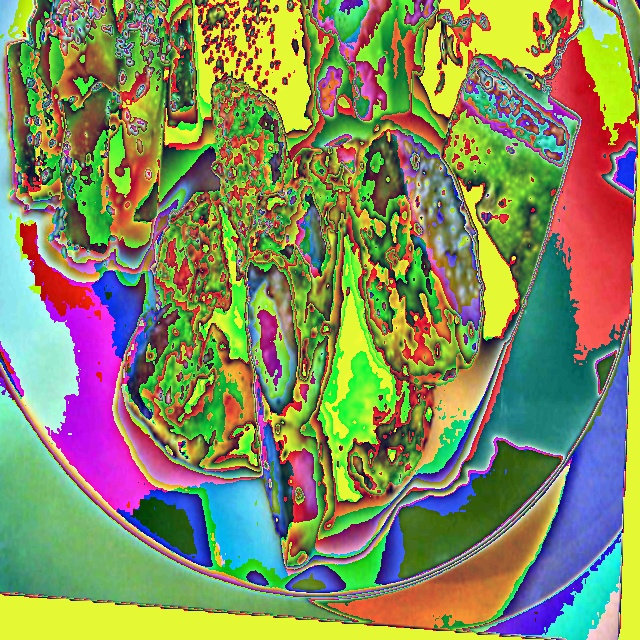background: (5, 0, 583, 571)
